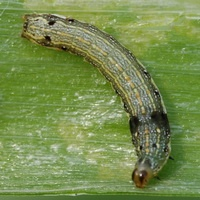insect: (22, 14, 170, 187)
